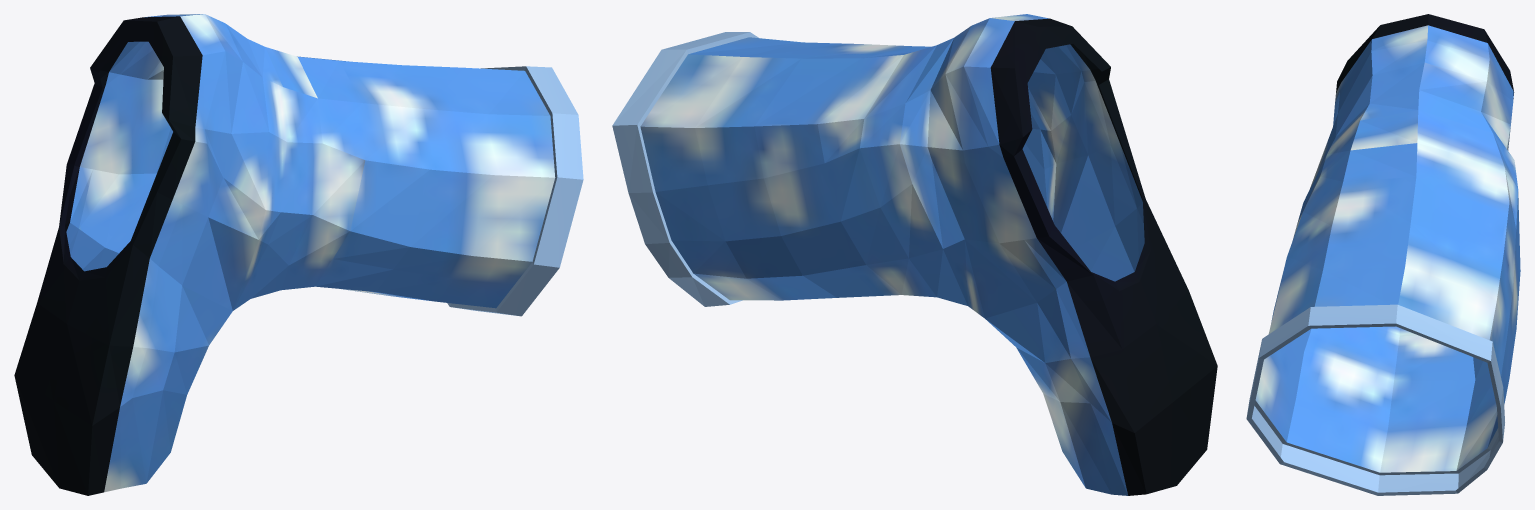
File: CloudHandBootsLeft.fbx
3 views of the same model, side by side, from view 1: azimuth 30°, elevation 25°; view 2: azimuth 150°, elevation 25°; view 3: azimuth 270°, elevation 25° (orthographic). The views are drawn at different scales.
Parts seen in each view (by area): view 1: CLOUD_HAND_BOOTS; view 2: CLOUD_HAND_BOOTS; view 3: CLOUD_HAND_BOOTS.
Part boxes in pixels (<box>): CLOUD_HAND_BOOTS: <box>14,14,583,495</box>; CLOUD_HAND_BOOTS: <box>612,14,1217,495</box>; CLOUD_HAND_BOOTS: <box>1246,14,1520,495</box>.
Bounding box in the file's own units: 41.5 × 34.24 × 19.91.
